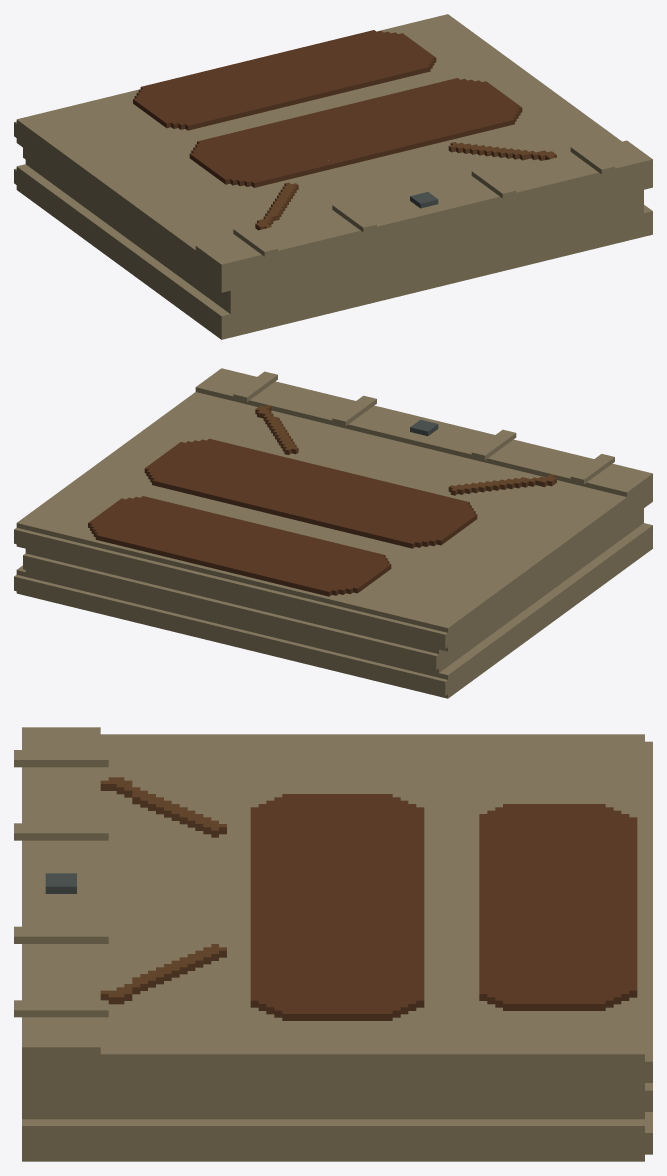
Rendered from leather_padded_pants.glb.
3 views of the same model, one above another, from view 1: azimuth 30°, elevation 25°; view 2: azimuth 150°, elevation 25°; view 3: azimuth 270°, elevation 25° (orthographic). The views are drawn at different scales.
Parts seen in each view (by area): view 1: leather_padded_pants:compound; view 2: leather_padded_pants:compound; view 3: leather_padded_pants:compound.
Part boxes in pixels (x1,y1,x2,y2): leather_padded_pants:compound: (14,14,652,339); leather_padded_pants:compound: (14,368,652,698); leather_padded_pants:compound: (14,727,652,1161).
Bounding box in the file's own units: 0.384 × 0.068 × 0.324.
